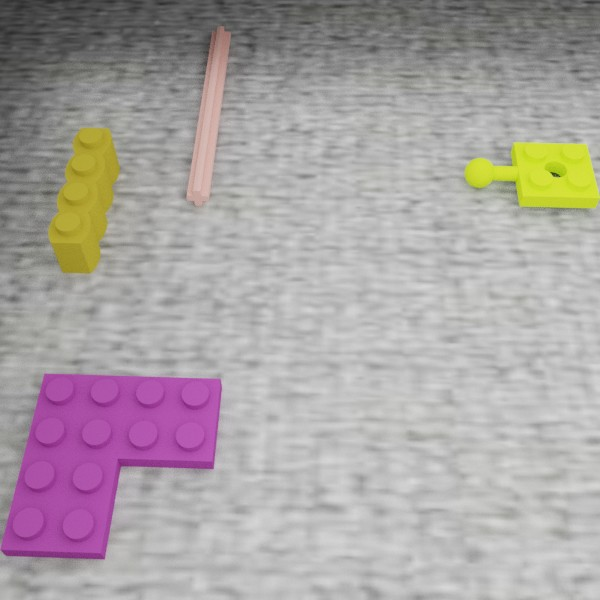lego: (0, 373, 222, 559), (48, 127, 119, 273), (464, 142, 600, 208), (186, 25, 231, 206)
